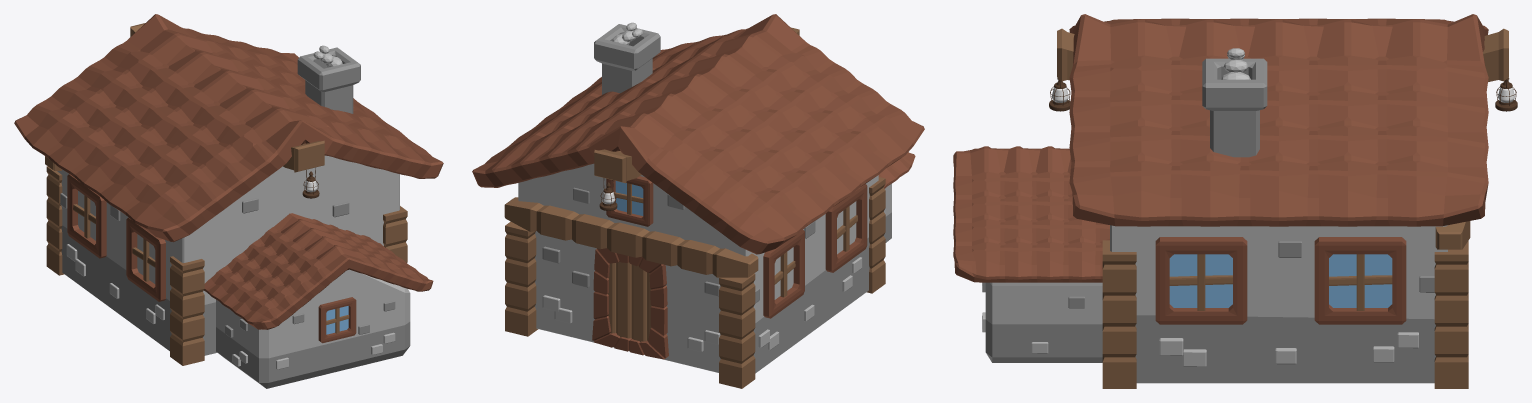
The model's file is house-3.fbx.
3 renders of one model, left to right at view 1: azimuth 30°, elevation 25°; view 2: azimuth 150°, elevation 25°; view 3: azimuth 270°, elevation 25°, orthographic. The views are drawn at different scales.
Visible parts, largest first — view 1: Cube.159; view 2: Cube.159; view 3: Cube.159.
Boxes of the visible parts, x1=… form: Cube.159: x1=14, y1=14, x2=443, y2=388; Cube.159: x1=472, y1=14, x2=924, y2=388; Cube.159: x1=953, y1=14, x2=1517, y2=388.
Bounding box in the file's own units: 855 × 676 × 1073.
